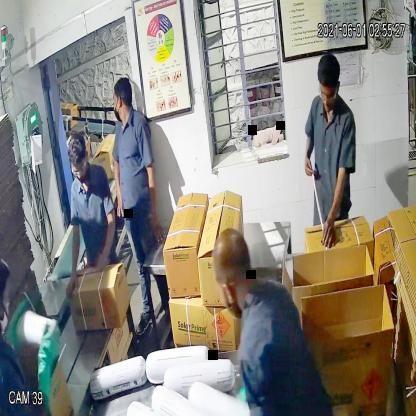goggles: (310, 80, 340, 108), (65, 155, 93, 182)
